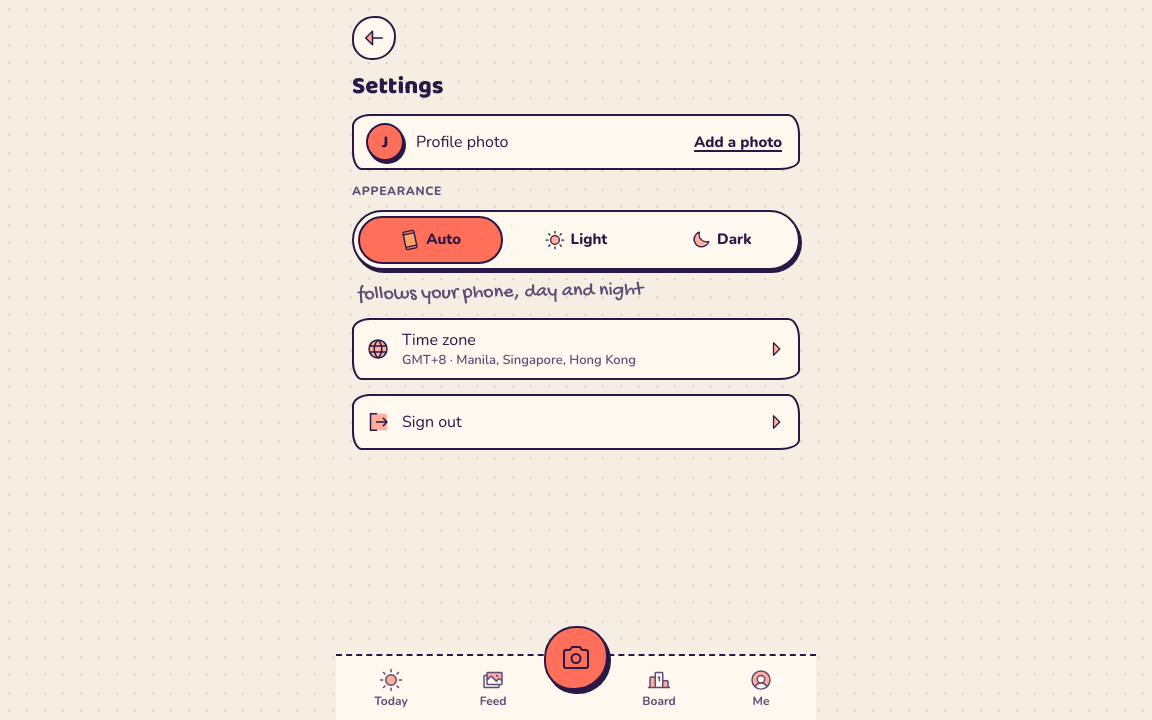
Settings › a failed sign-out shows the error toast, restores the row and stays on Settings
Click the button "Sign out". click: (432, 422)
box: x1=354 y1=396 x2=798 y2=448
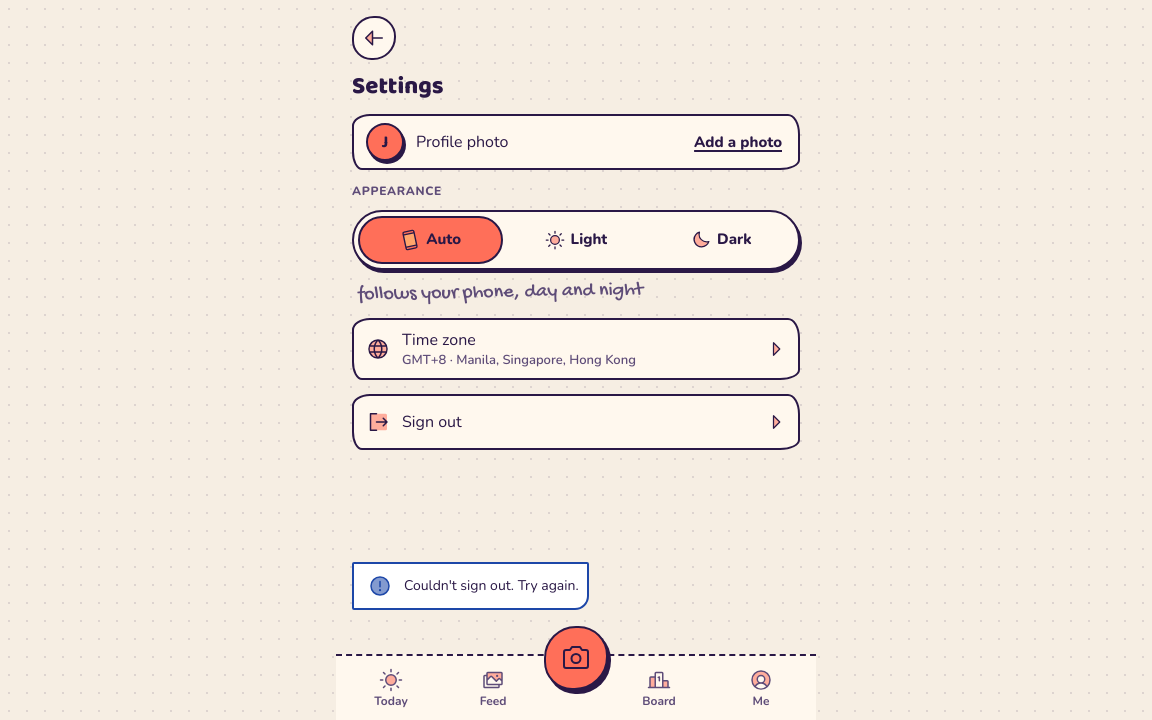
Now the text "Couldn't sign out. Try again." is shown, box x1=404 y1=572 x2=579 y2=600
